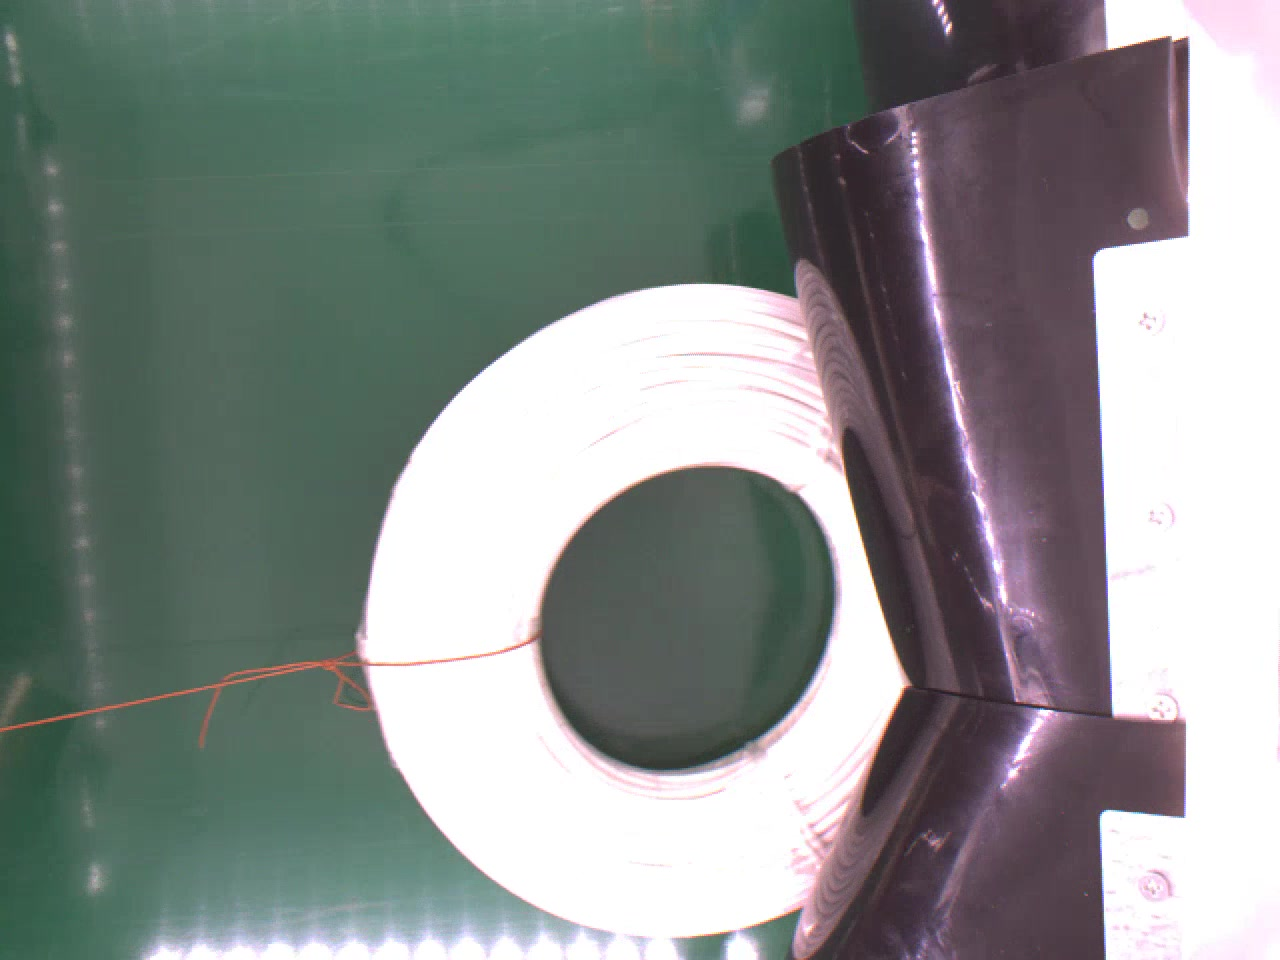white: (354, 281, 910, 945)
